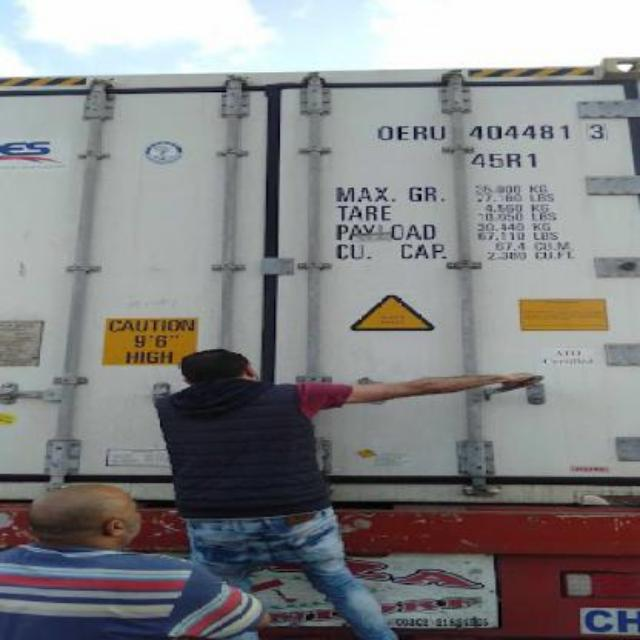0: (484, 124, 504, 140)
1: (558, 124, 574, 140)
3: (584, 123, 608, 139)
4: (468, 122, 488, 142), (504, 124, 522, 140), (522, 123, 538, 141)
8: (538, 124, 556, 140)
E: (394, 126, 414, 142)
O: (378, 124, 396, 142)
R: (412, 124, 428, 140)
U: (430, 125, 448, 141)
